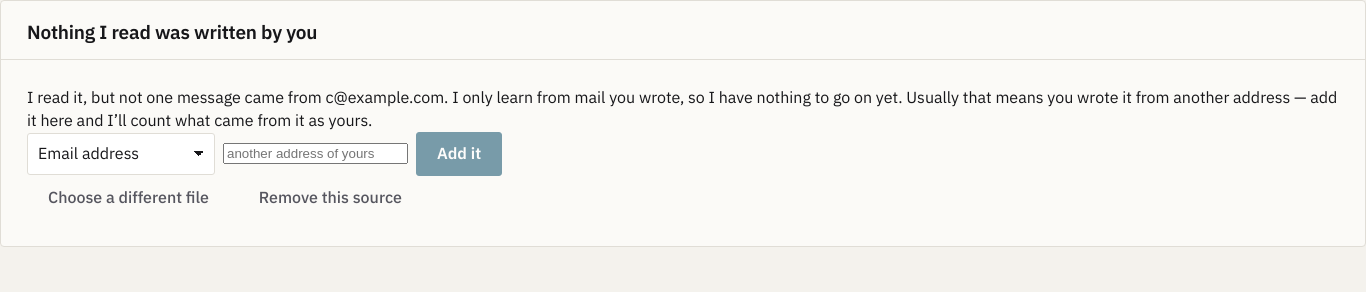
Test: when nothing read was the user's, adding the address is the fix › says so when the address is already one of the user's
Check: the heading "Nothing I read was written by you" is shown, box [27,19,317,46]
Type "c@example.com" into the field labelled "another address of yours" at coordinates (316, 154), box [223,143,408,164]
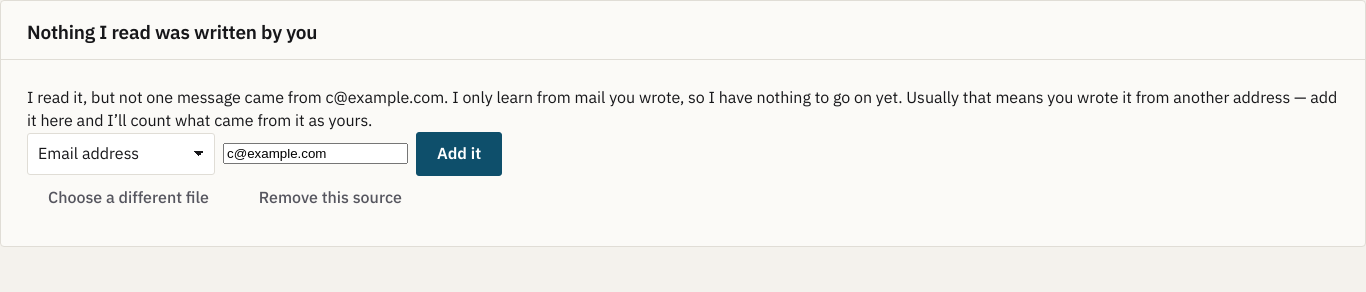
Click the button "Add it" at coordinates (459, 154), box [416,132,502,176]
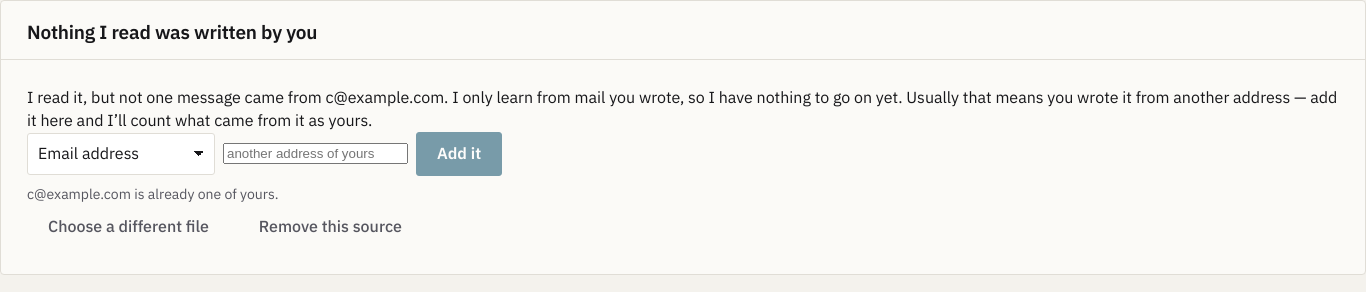
Check: the text "c@example.com is already one of yours." is shown, box [27,185,278,203]
